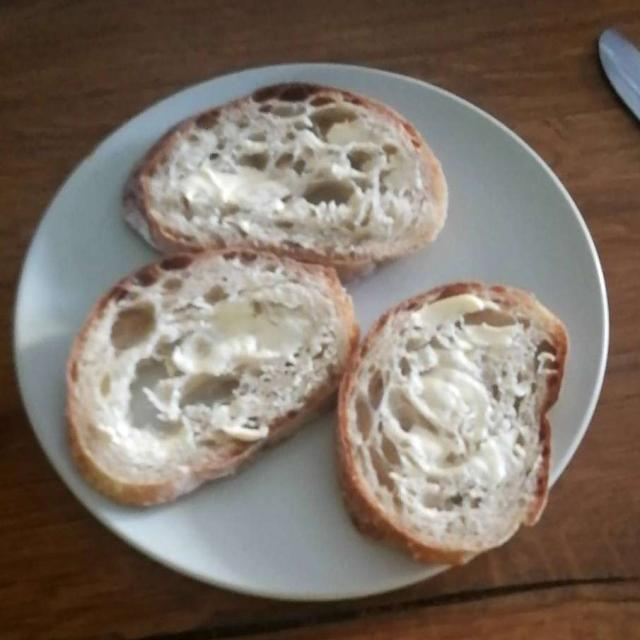bread: (54, 94, 571, 562)
butter: (118, 112, 554, 535)
